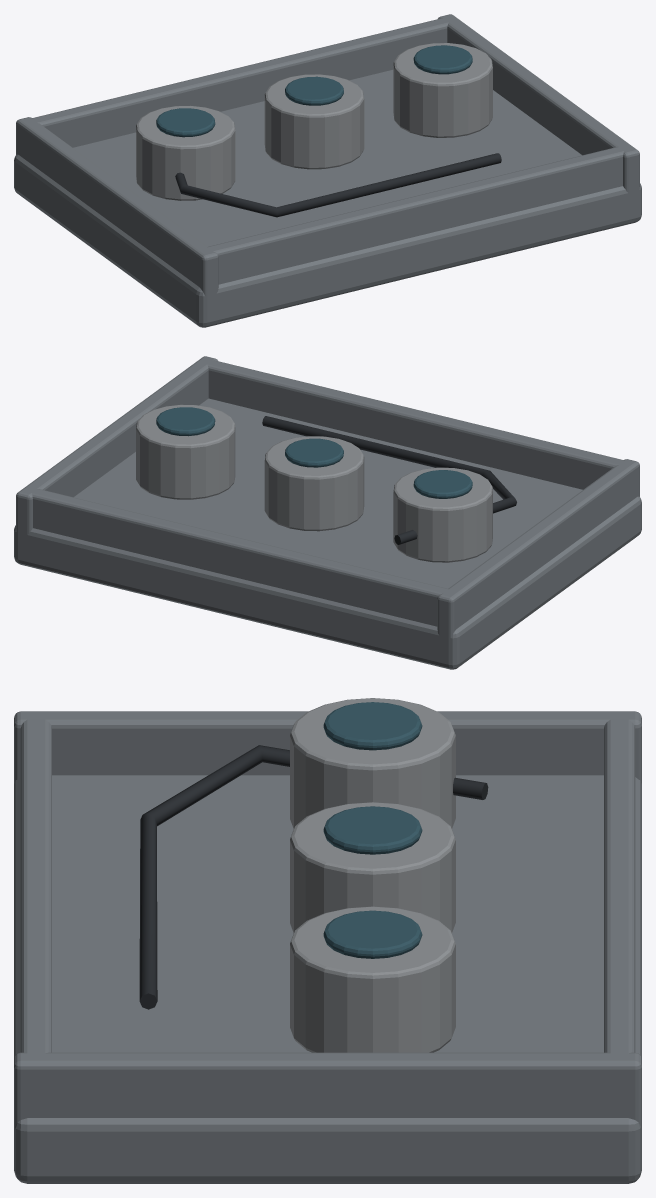
Rendered from BP_BenchKit_2.fbx.
3 views of the same model, one above another, from view 1: azimuth 30°, elevation 25°; view 2: azimuth 150°, elevation 25°; view 3: azimuth 270°, elevation 25° (orthographic). The views are drawn at different scales.
Parts seen in each view (by area): view 1: BP_BenchKit_2; view 2: BP_BenchKit_2; view 3: BP_BenchKit_2.
Part boxes in pixels (left/top/right/bottom): BP_BenchKit_2: left=14, top=14, right=641, bottom=327; BP_BenchKit_2: left=14, top=356, right=641, bottom=669; BP_BenchKit_2: left=14, top=698, right=641, bottom=1183.
Size of the model in its own units: 38 by 9 by 28.
